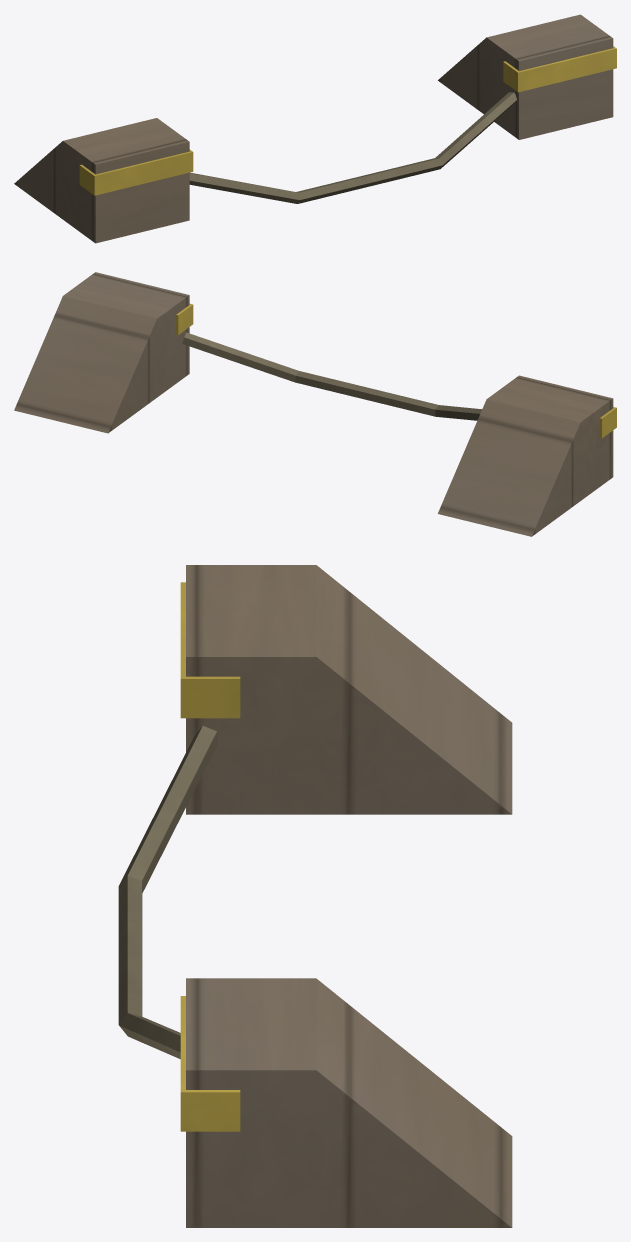
Rendered from wheel_chocks.glb.
The picture shows the model from 3 angles, top to bottom: view 1: azimuth 30°, elevation 25°; view 2: azimuth 150°, elevation 25°; view 3: azimuth 270°, elevation 25°; orthographic projection. The views are drawn at different scales.
Visible parts, largest first — view 1: chocks; view 2: chocks; view 3: chocks.
Boxes of the visible parts, box(x1,y1,x2,y2) form: chocks: box(14, 14, 616, 243); chocks: box(14, 272, 616, 536); chocks: box(118, 565, 512, 1227).
Size of the model in its own units: 1.11 by 0.16 by 0.3619.
1 material, 1 textured.
